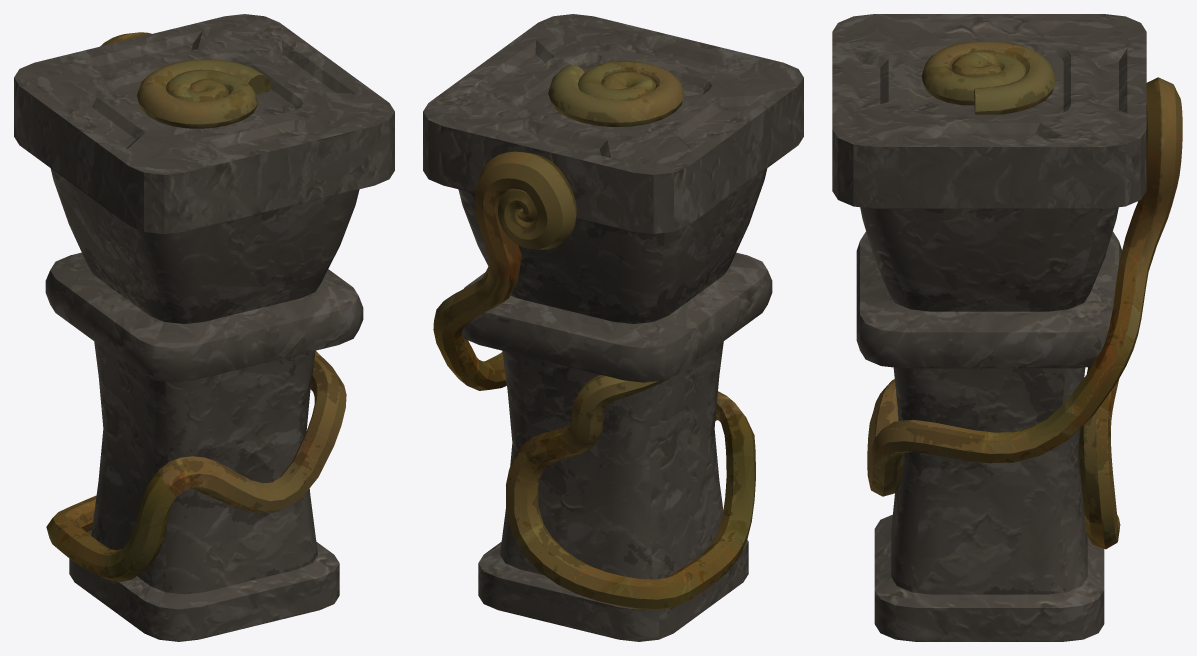
Rendered from SM_PRP_ShellPillar.fbx.
3 renders of one model, left to right at view 1: azimuth 30°, elevation 25°; view 2: azimuth 150°, elevation 25°; view 3: azimuth 270°, elevation 25°, orthographic. The views are drawn at different scales.
Parts seen in each view (by area): view 1: m_ShellPillar_low; view 2: m_ShellPillar_low; view 3: m_ShellPillar_low.
Part boxes in pixels (x1,y1,x2,y2): m_ShellPillar_low: (14,14,394,641); m_ShellPillar_low: (423,14,803,641); m_ShellPillar_low: (832,14,1182,641).
Size of the model in its own units: 274 by 508 by 306.
1 material, 1 textured.
